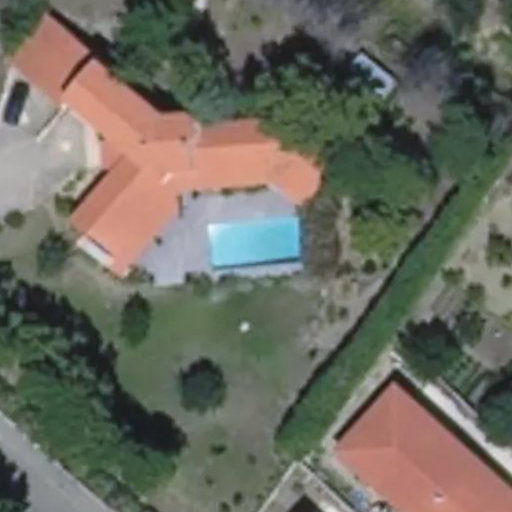pool: (209, 223, 302, 260)
